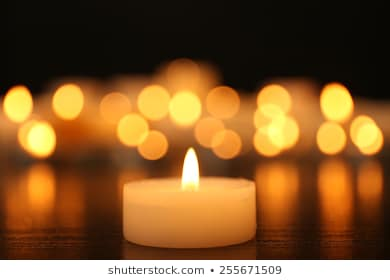Fire: (181, 144, 200, 189)
